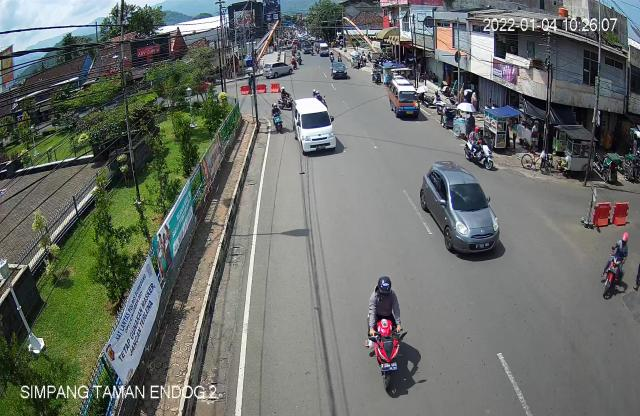Mobil: (418, 156, 507, 259), (290, 91, 346, 160), (386, 74, 421, 129)
Motor: (356, 274, 420, 399), (601, 232, 632, 302), (463, 127, 497, 172), (266, 100, 286, 142)
